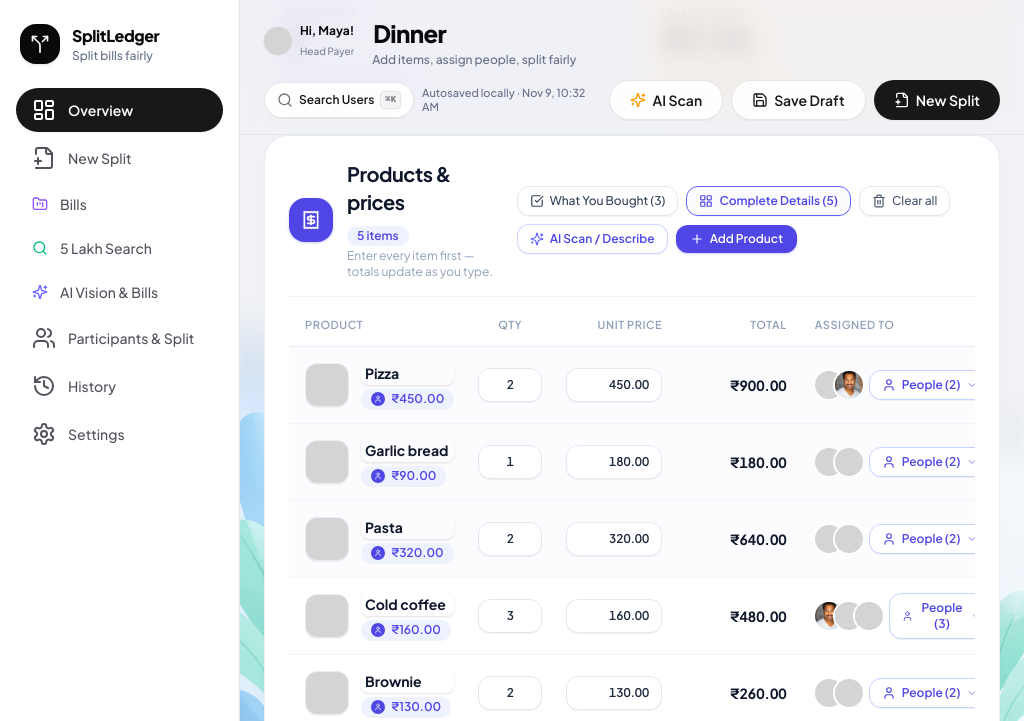
it: dashboard › changing a quantity recalculates all totals
(page scrolled)
Check: the field showing "Dinner" is shown, box [366,14,814,52]
Replace the text in the field named "Quantity for Pizza" with "3" at coordinates (510, 384), box [478,368,542,402]
(page scrolled)
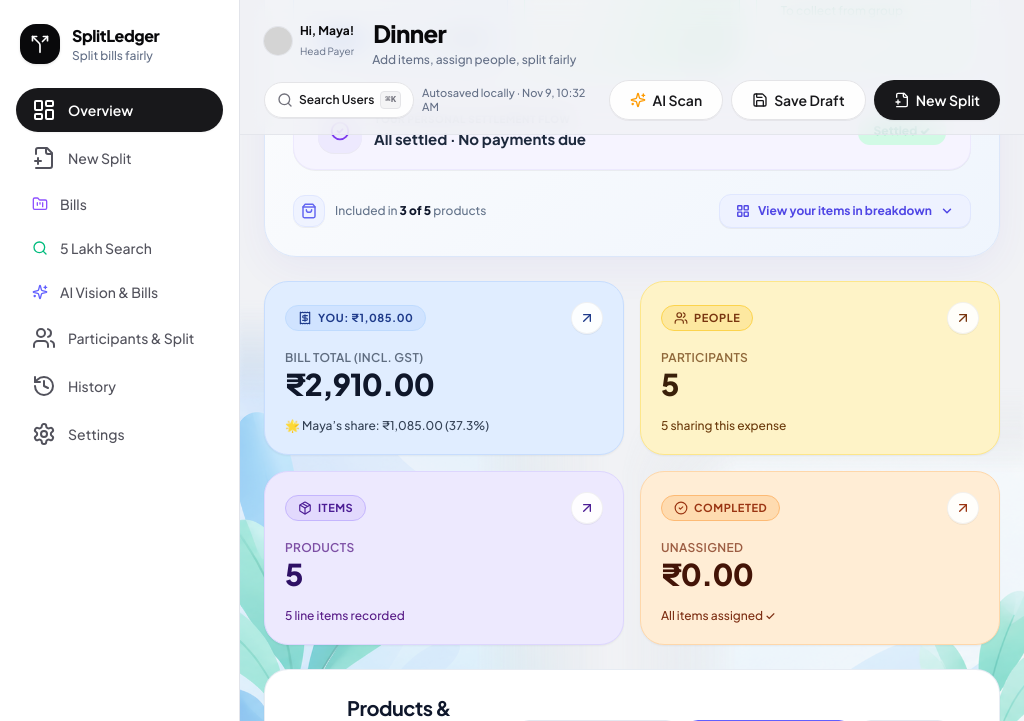
Check: the text "₹2,910.00" is shown, box [285,365,434,403]
